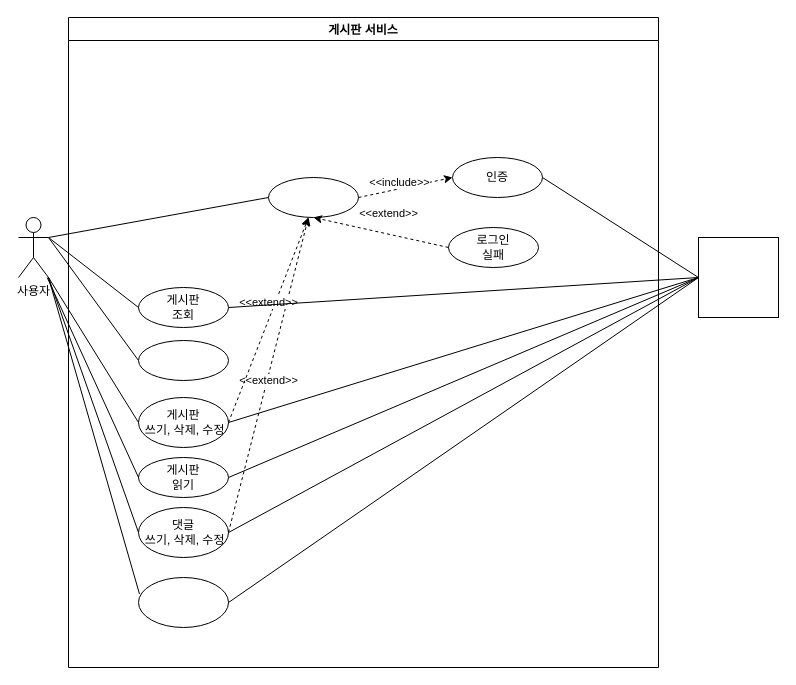
Some shapes in this 796 by 685 pixel diagram are drawn without their labels. Here are the shapes that lost their labels. From the top down, the centre of each, then its label:
(313,197): 로그인
(738,277): DB
(183,360): 게시판 정렬
(183,602): 댓글 읽기
